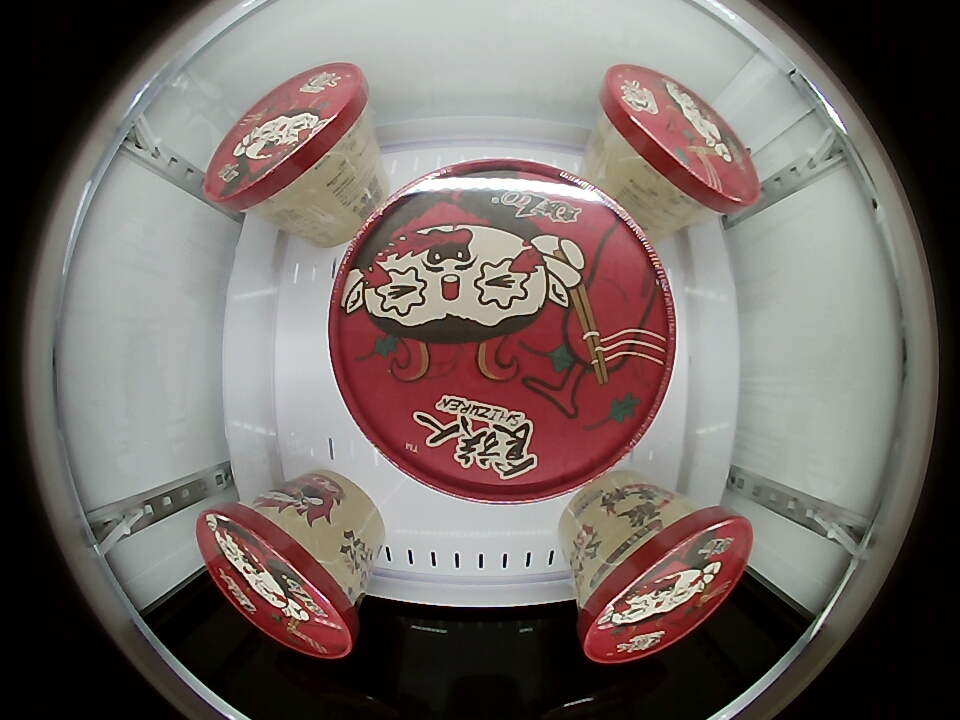suanlafen: (326, 158, 680, 503), (577, 503, 754, 664), (196, 499, 360, 658), (204, 63, 371, 212), (599, 64, 760, 216)
